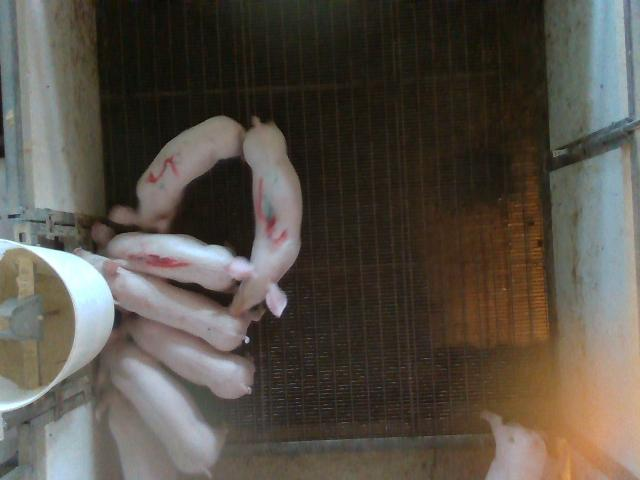pig-1: (91, 222, 235, 291)
pig-3: (226, 116, 302, 316)
pig-5: (110, 116, 245, 232)
